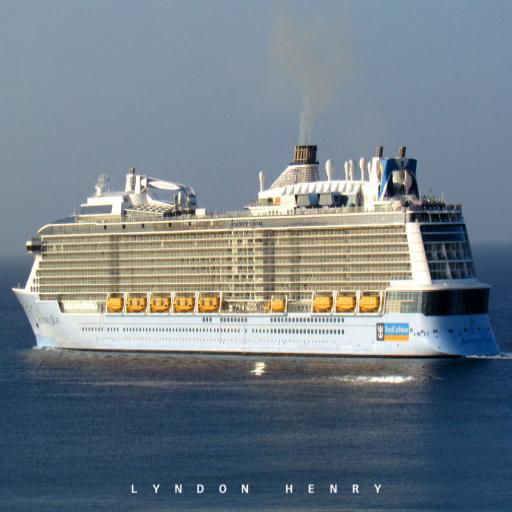cruises: (7, 142, 505, 367)
